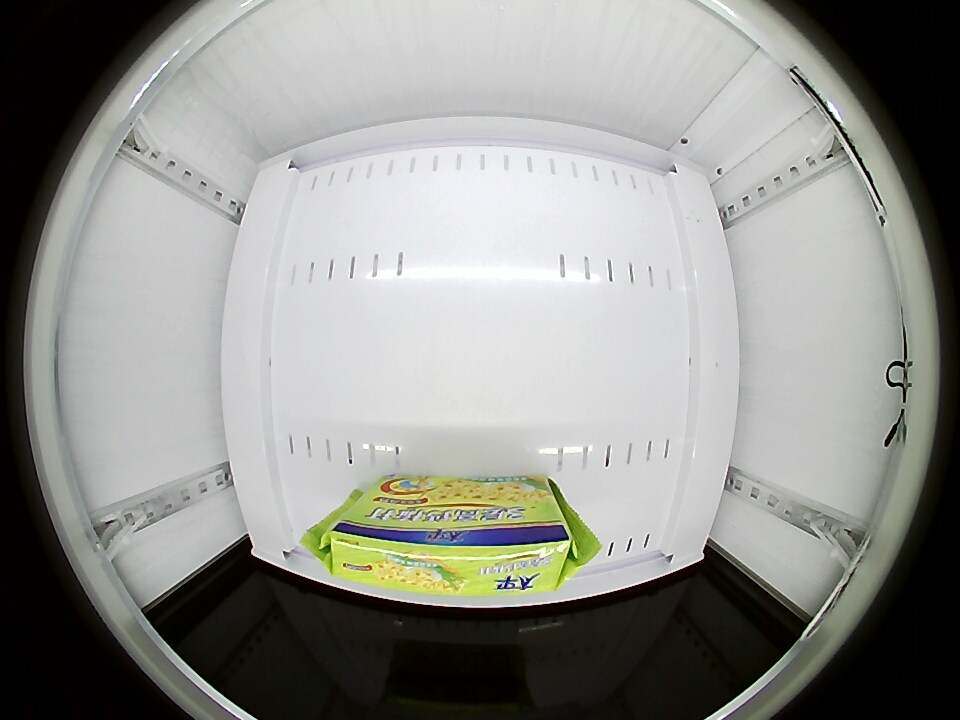taipingshuda: (325, 493, 574, 601)
